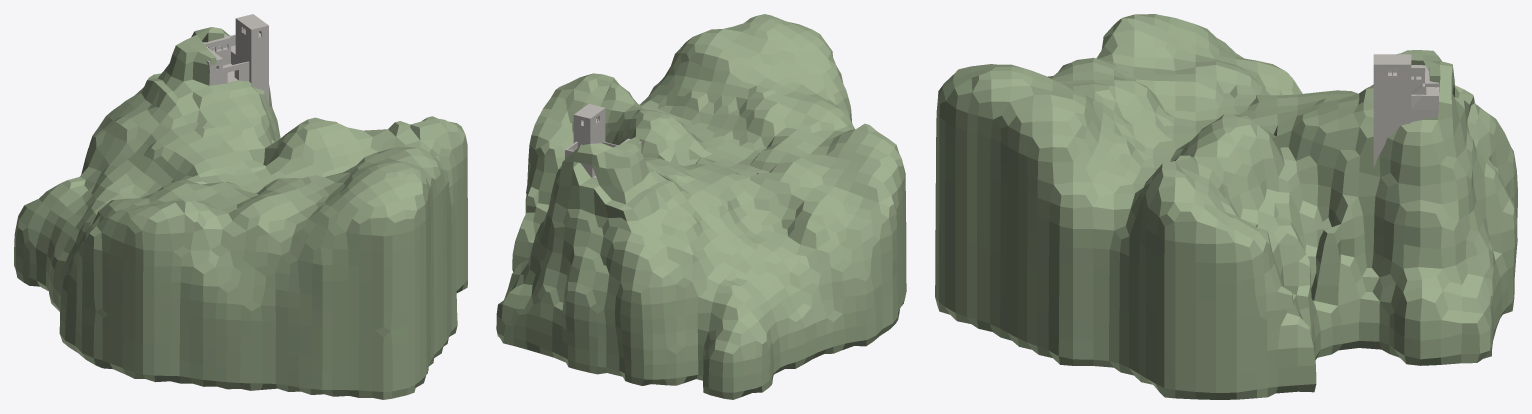
The model's file is Minimal.glb.
3 views of the same model, side by side, from view 1: azimuth 30°, elevation 25°; view 2: azimuth 150°, elevation 25°; view 3: azimuth 270°, elevation 25° (orthographic). The views are drawn at different scales.
Parts seen in each view (by area): view 1: Terrain, Fort; view 2: Terrain, Fort; view 3: Terrain, Fort.
Boxes of the visible parts, x1,y1,x2,y2 form: Terrain: [14, 27, 467, 399]; Fort: [203, 14, 268, 110]; Terrain: [496, 14, 906, 399]; Fort: [565, 104, 641, 178]; Terrain: [935, 14, 1517, 399]; Fort: [1373, 54, 1439, 167].
Size of the model in its own units: 110 by 63.66 by 125.
